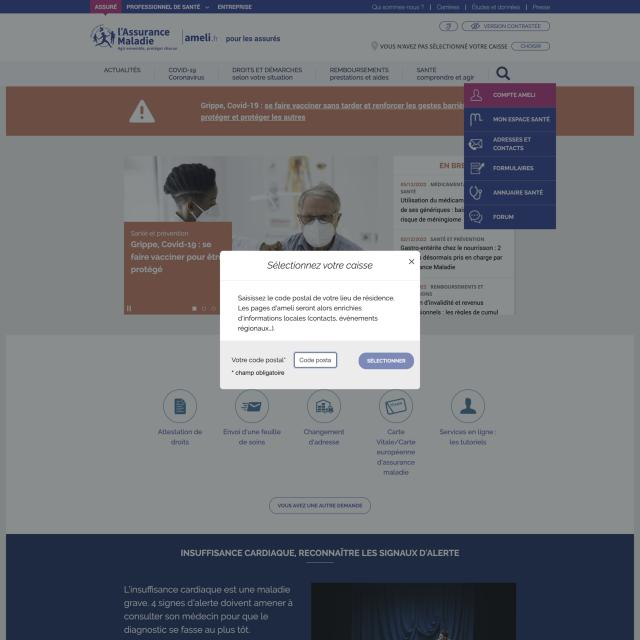CheckBox: (356, 352, 416, 371)
CheckedTextView: (294, 350, 340, 369)
Input field: (236, 289, 399, 334)
carousel: (404, 255, 416, 268)
data feed: (229, 353, 290, 367)
header: (220, 249, 420, 389)
image: (266, 259, 377, 272)
